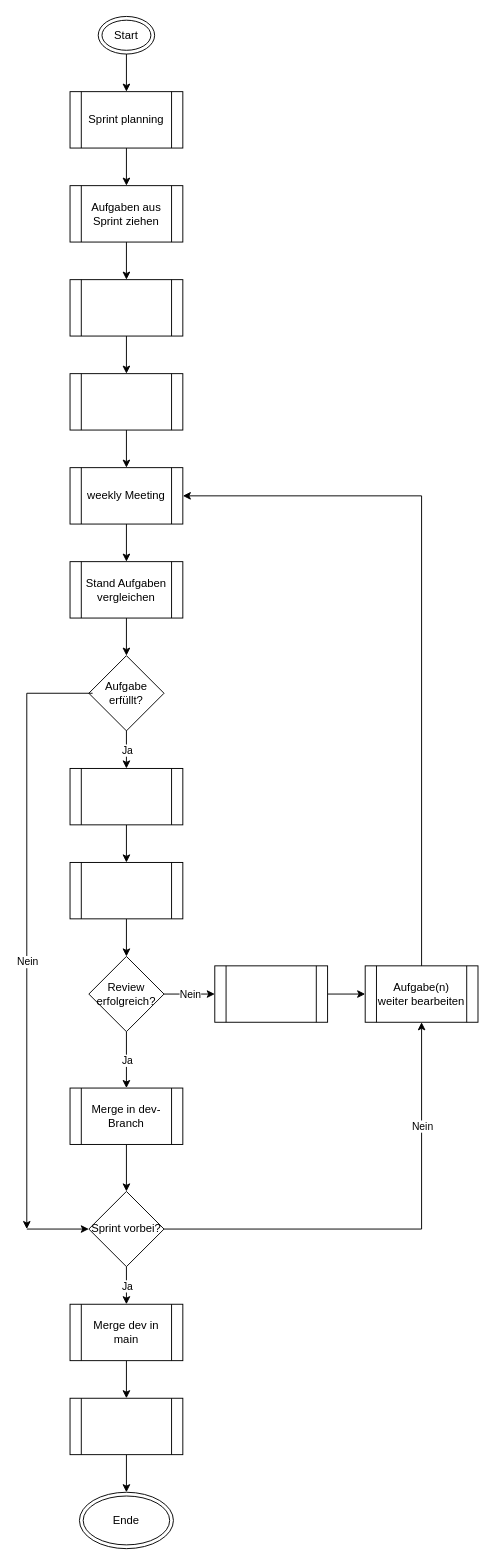
This 494x1565 diagram has some shape labels left out. Here are the shapes that lost their labels. From the top down, the centre of each, then its label:
(126,307): Branch(es) nach Namenskonvention erstellen
(126,401): Aufgabe bearbeiten
(126,796): Pull Request erstellen
(126,890): Pull Review durchführen
(271,993): Änderungen einarbeiten
(126,1426): unerledigte Aufgaben mit in neuen Sprint nehmen
